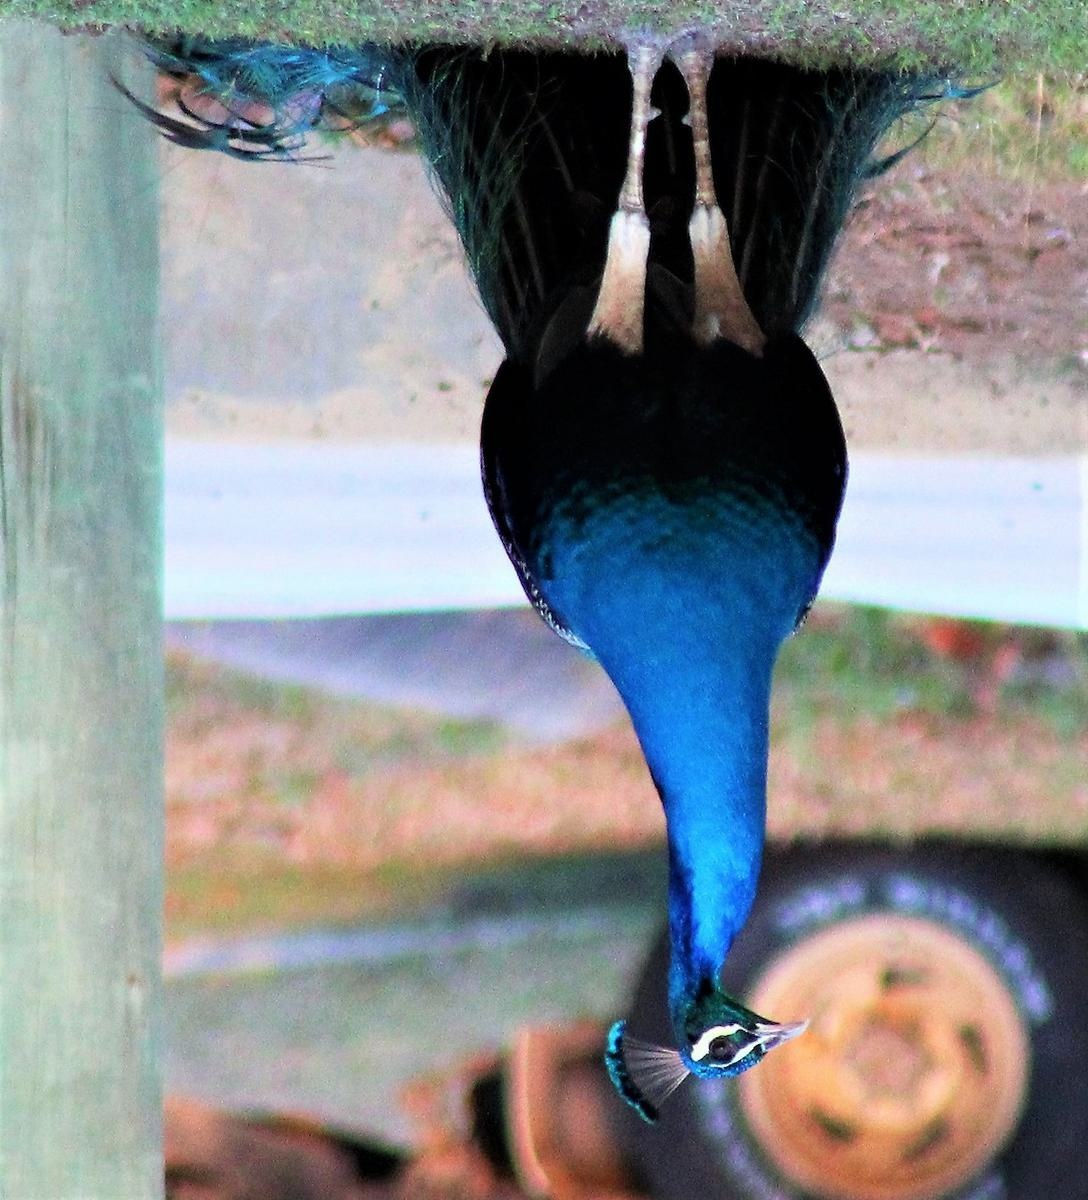peacock: (351, 1, 853, 1114)
